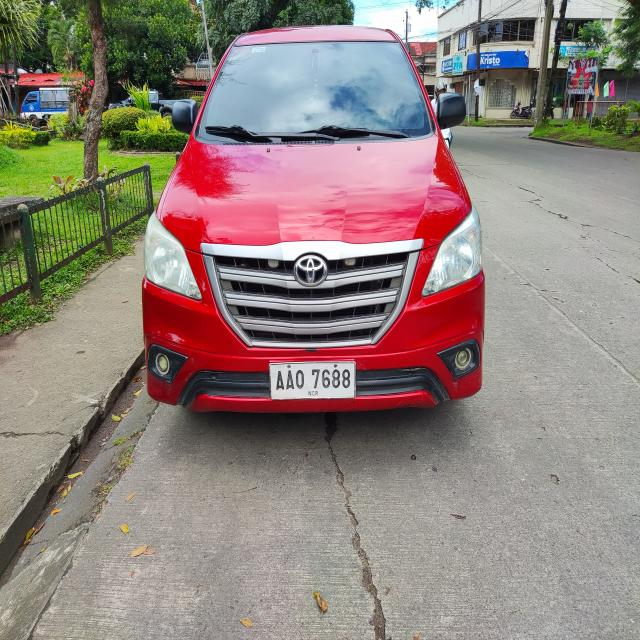plate: (268, 360, 356, 400)
